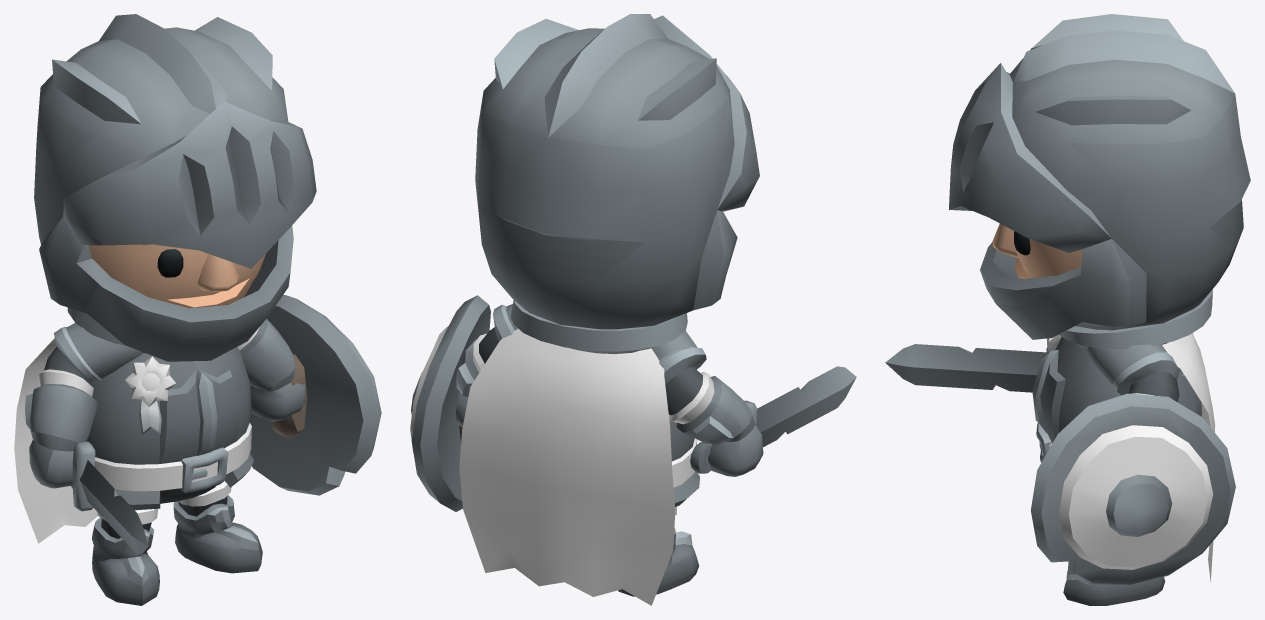
Rendered from swordsman.glb.
The picture shows the model from 3 angles, left to right: view 1: azimuth 30°, elevation 25°; view 2: azimuth 150°, elevation 25°; view 3: azimuth 270°, elevation 25°; orthographic projection.
Visible parts, largest first — view 1: swordsman; view 2: swordsman; view 3: swordsman.
Part boxes in pixels (x1,y1,x2,y2): swordsman: (14,14,381,605); swordsman: (410,14,856,605); swordsman: (885,14,1250,605).
Size of the model in its own units: 1.05 by 1.7 by 1.05.
2 materials, 1 textured.
